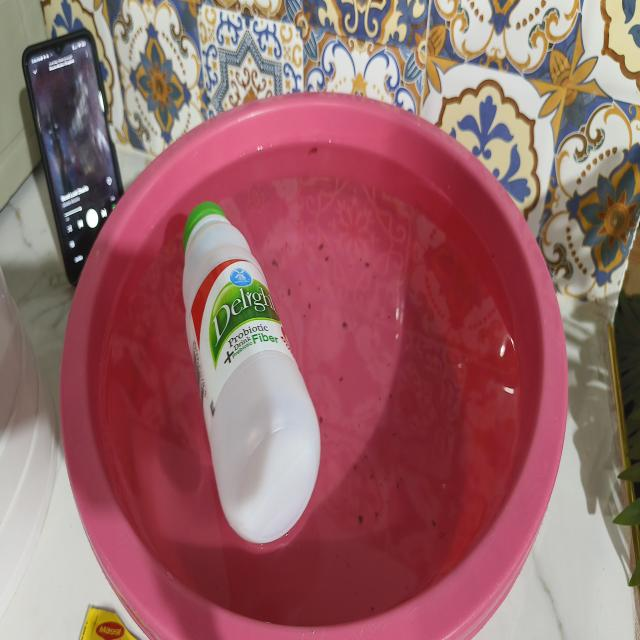Plastic Bottle: (182, 202, 320, 544)
